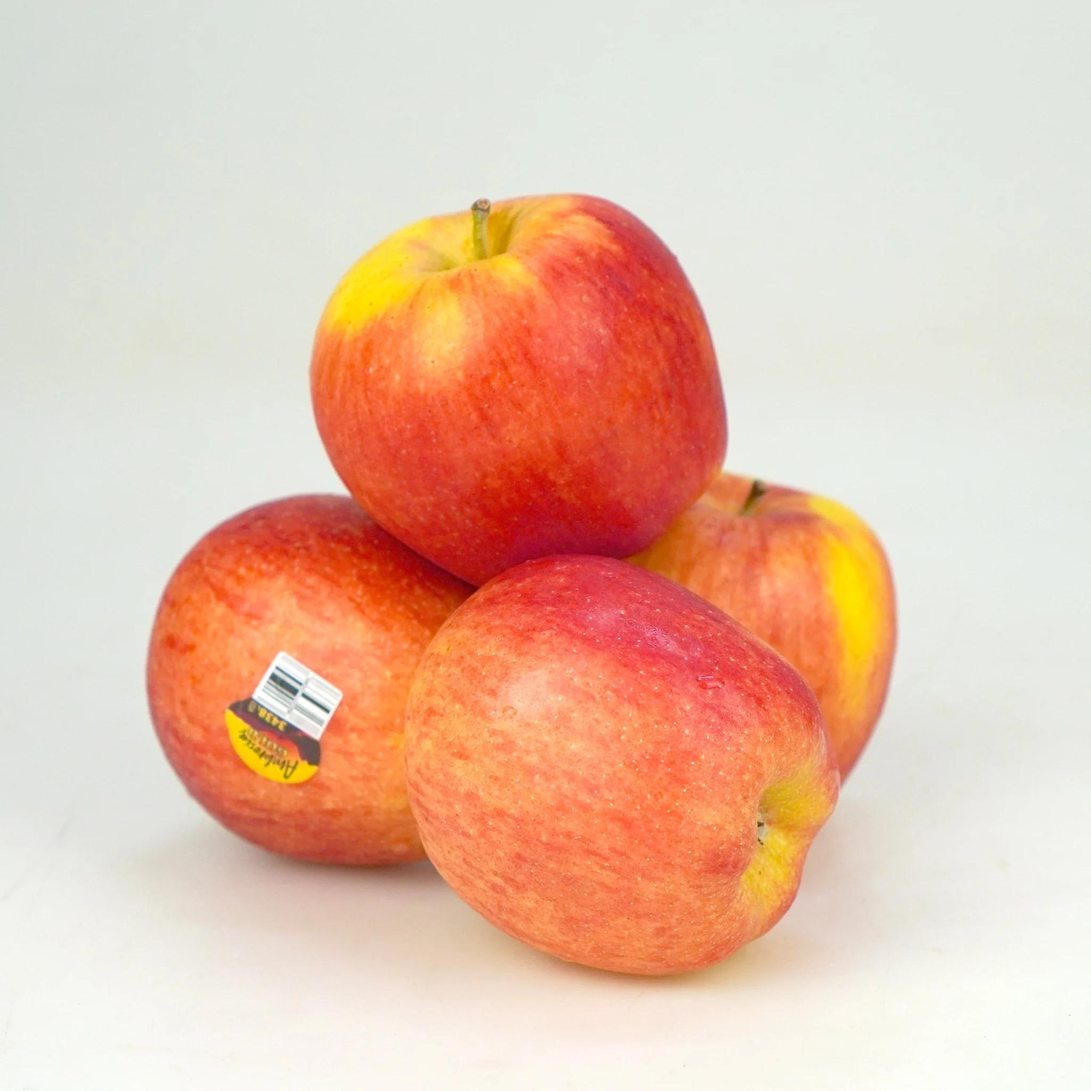apples: (423, 551, 838, 980), (300, 183, 727, 577), (146, 485, 420, 878)
